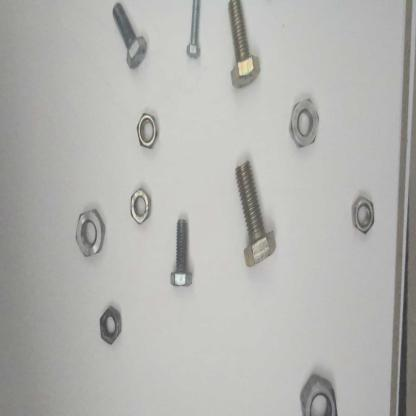Bolts: (229, 153, 280, 275), (218, 0, 264, 92), (106, 0, 152, 73), (180, 0, 210, 63)
NUTS: (283, 90, 330, 155), (297, 364, 339, 416), (74, 202, 107, 263), (349, 192, 383, 248), (130, 108, 161, 156), (128, 181, 154, 233), (98, 303, 124, 347)
